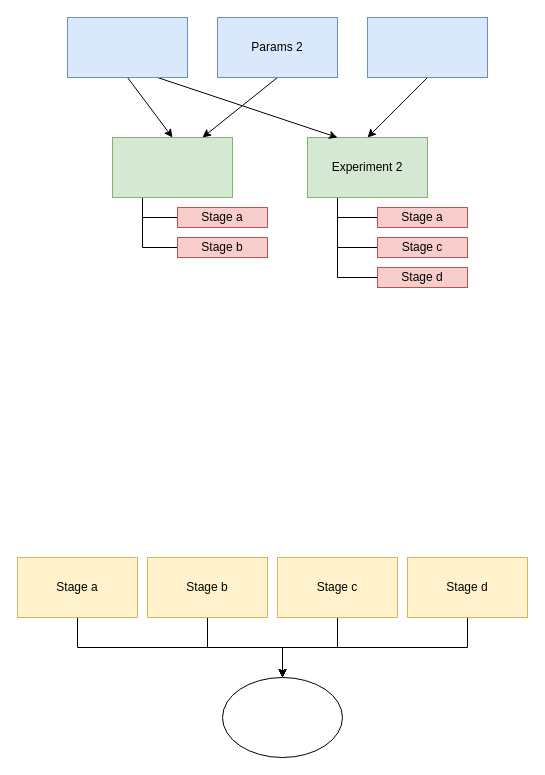
Image size: 545x775. Some labels were removed from this diagram. The shapes that lost their labels are listed below. From the top down, each one's centre as x and y in pixels, then its label:
the point at 127,47: Params 1
the point at 427,47: Params 3
the point at 172,167: Experiment 1
the point at 282,717: Codebase
